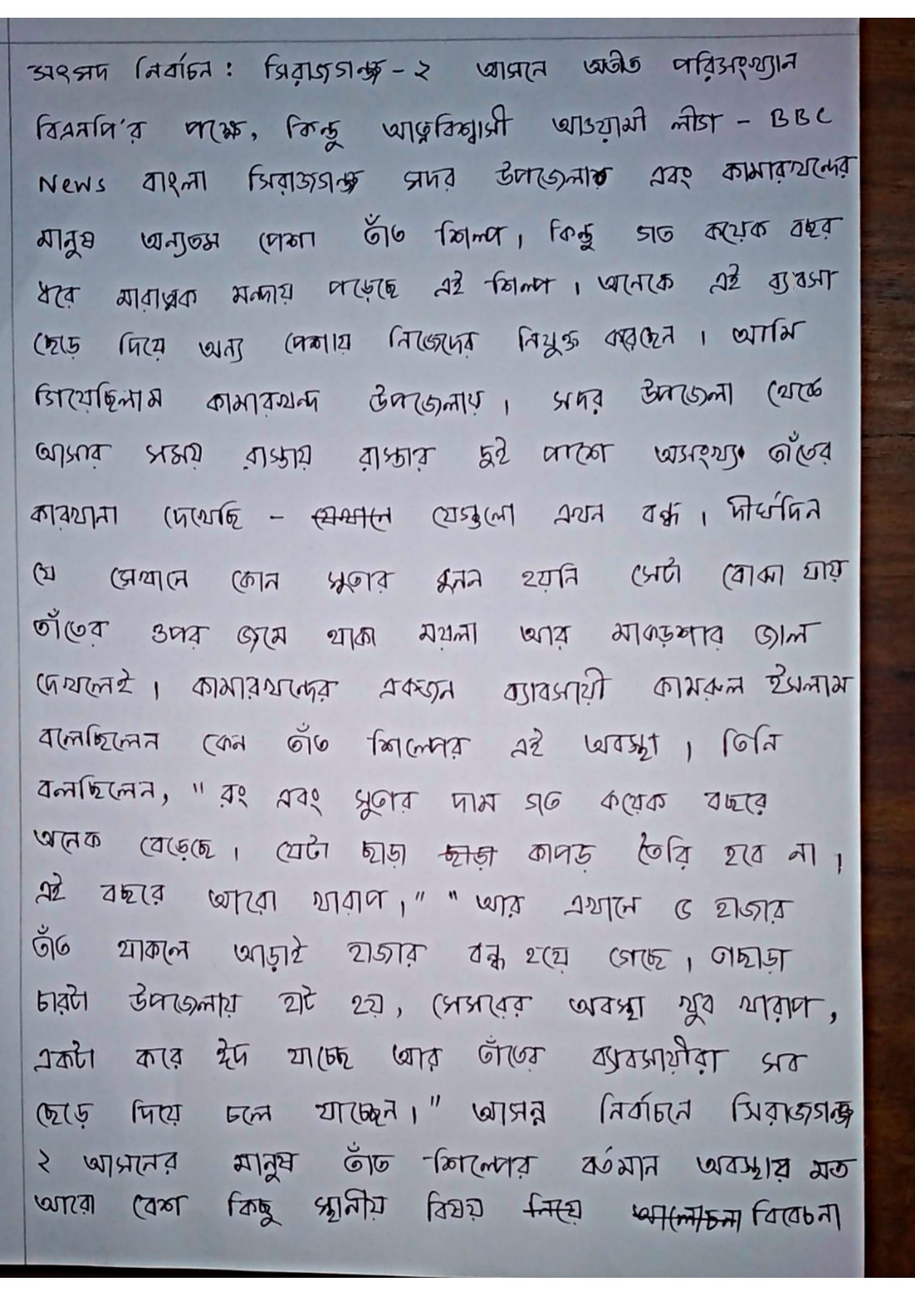line: (38, 263, 837, 313), (31, 872, 793, 924), (29, 923, 793, 974), (28, 828, 844, 875), (34, 103, 832, 151), (34, 316, 807, 364), (31, 490, 823, 536), (38, 215, 846, 260), (35, 662, 853, 706), (34, 983, 837, 1026), (37, 155, 857, 197), (31, 608, 822, 651), (34, 376, 821, 419), (34, 1144, 859, 1185), (33, 430, 833, 472), (32, 1190, 843, 1231), (37, 775, 766, 819), (36, 1035, 809, 1076), (34, 1091, 853, 1129), (31, 557, 849, 595), (38, 722, 782, 761), (24, 48, 798, 85)
